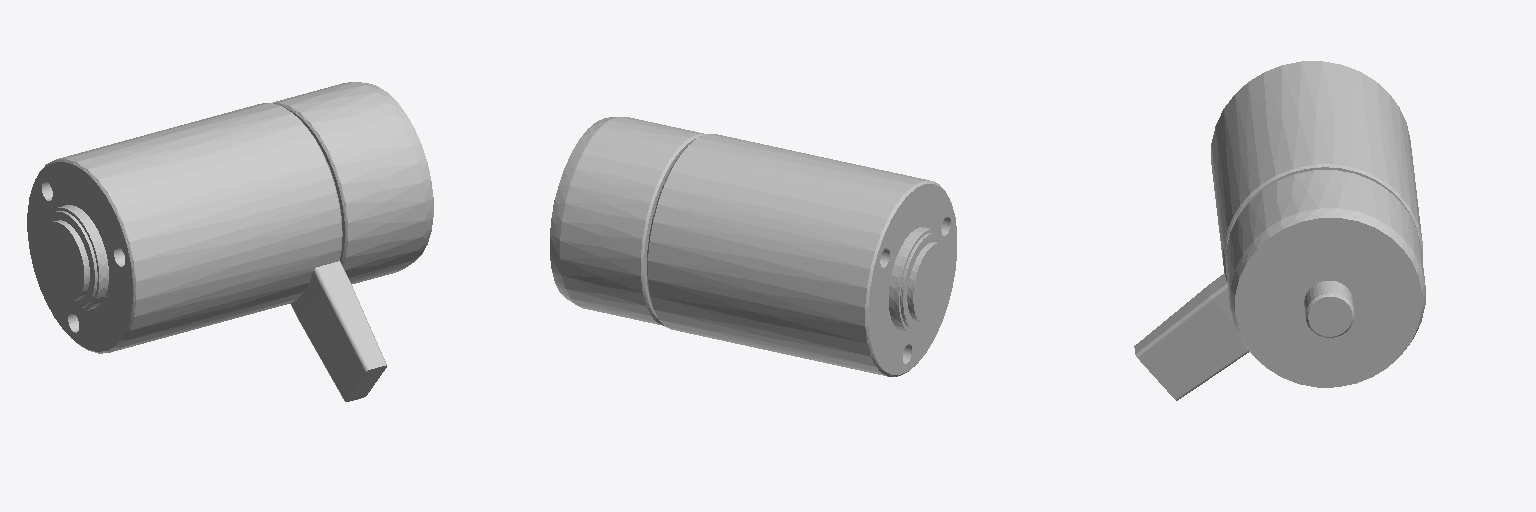
Rendered from motor_knee_left_front.obj.
3 views of the same model, side by side, from view 1: azimuth 30°, elevation 25°; view 2: azimuth 150°, elevation 25°; view 3: azimuth 270°, elevation 25° (orthographic).
Parts seen in each view (by area): view 1: Body2.014_Body2.013; view 2: Body2.014_Body2.013; view 3: Body2.014_Body2.013.
Part boxes in pixels (x1,y1,x2,y2): Body2.014_Body2.013: (27, 82, 433, 401); Body2.014_Body2.013: (550, 117, 956, 376); Body2.014_Body2.013: (1134, 61, 1425, 400).
Bounding box in the file's own units: 0.0507 × 0.0316 × 0.0354.